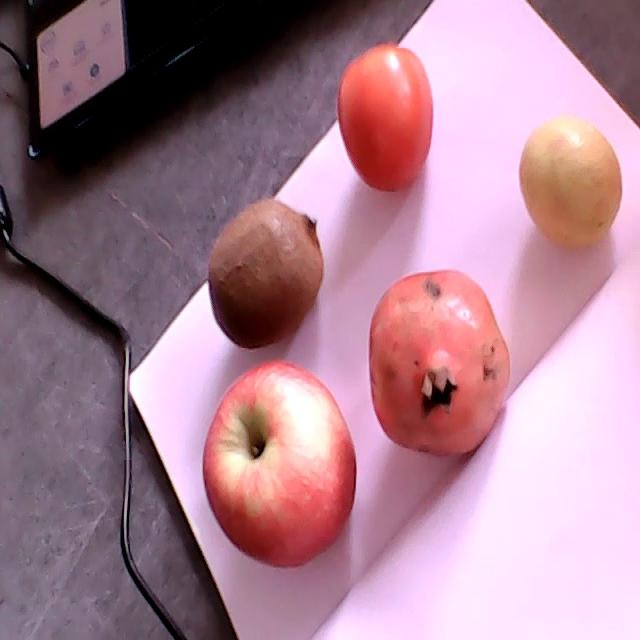apple: (204, 361, 356, 567)
kiwi: (207, 198, 324, 350)
lemon: (521, 119, 622, 247)
pomegranate: (369, 269, 510, 455)
tomato: (338, 40, 433, 191)
